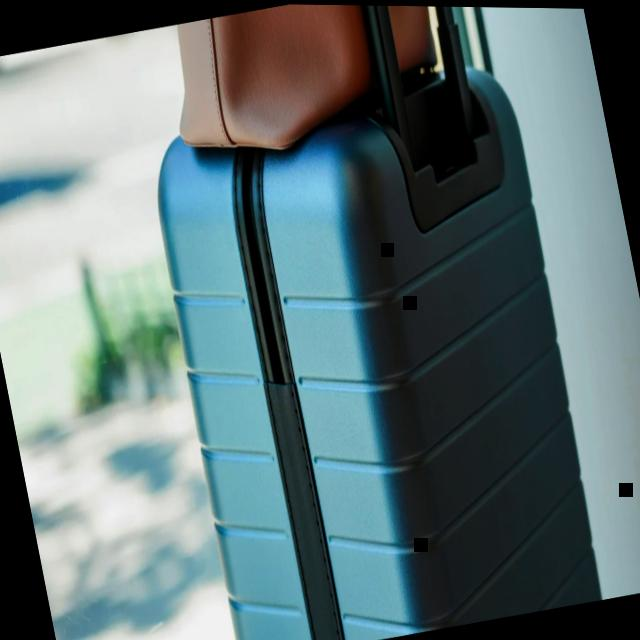luggage: (131, 46, 615, 640)
